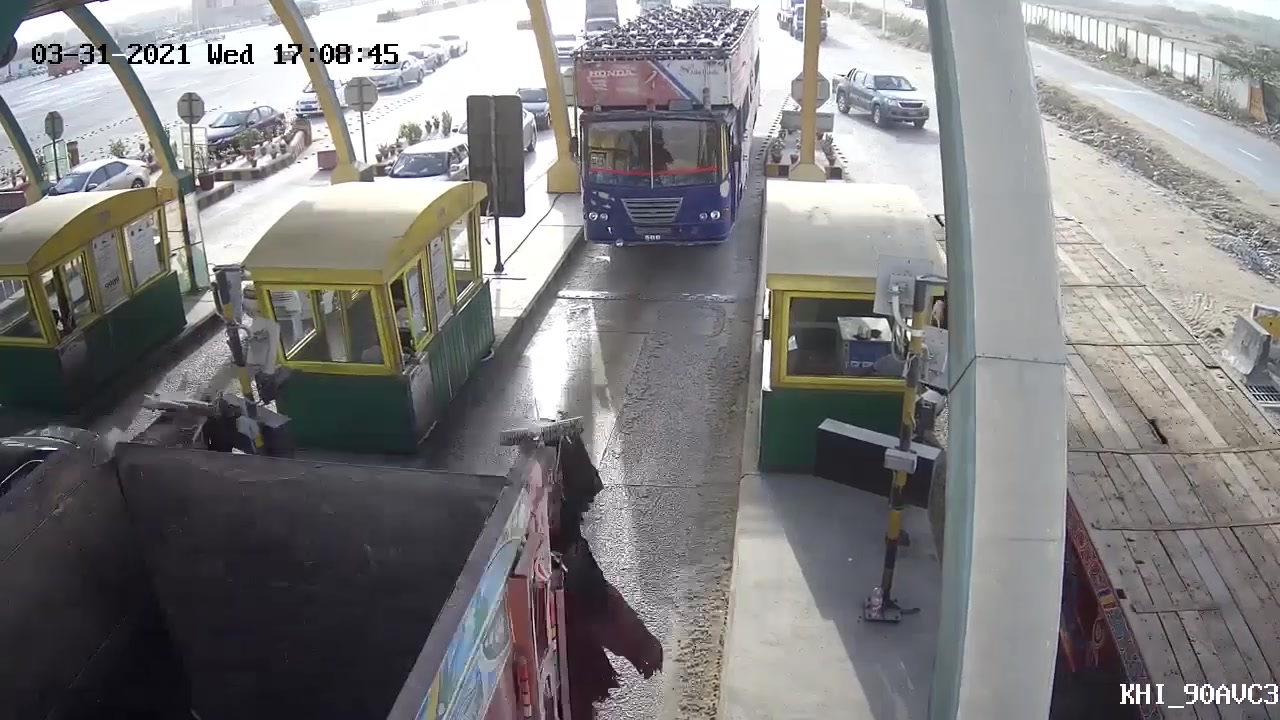F5: (564, 7, 760, 264)
